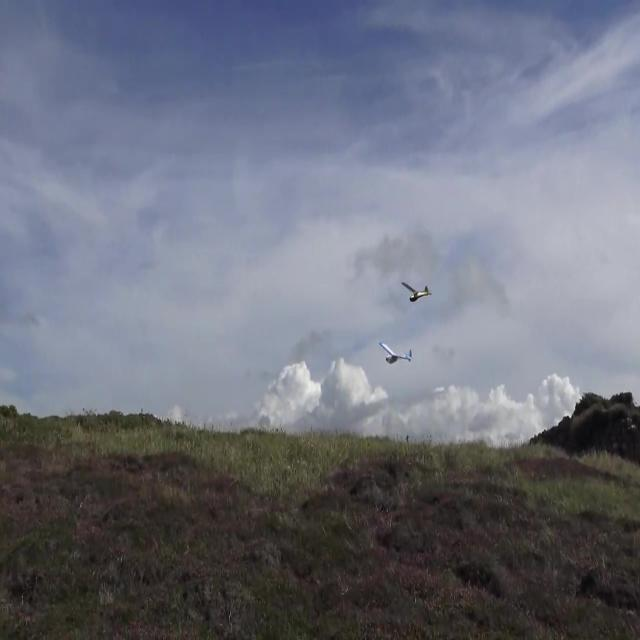iha: (371, 340, 406, 365), (401, 280, 432, 304)
